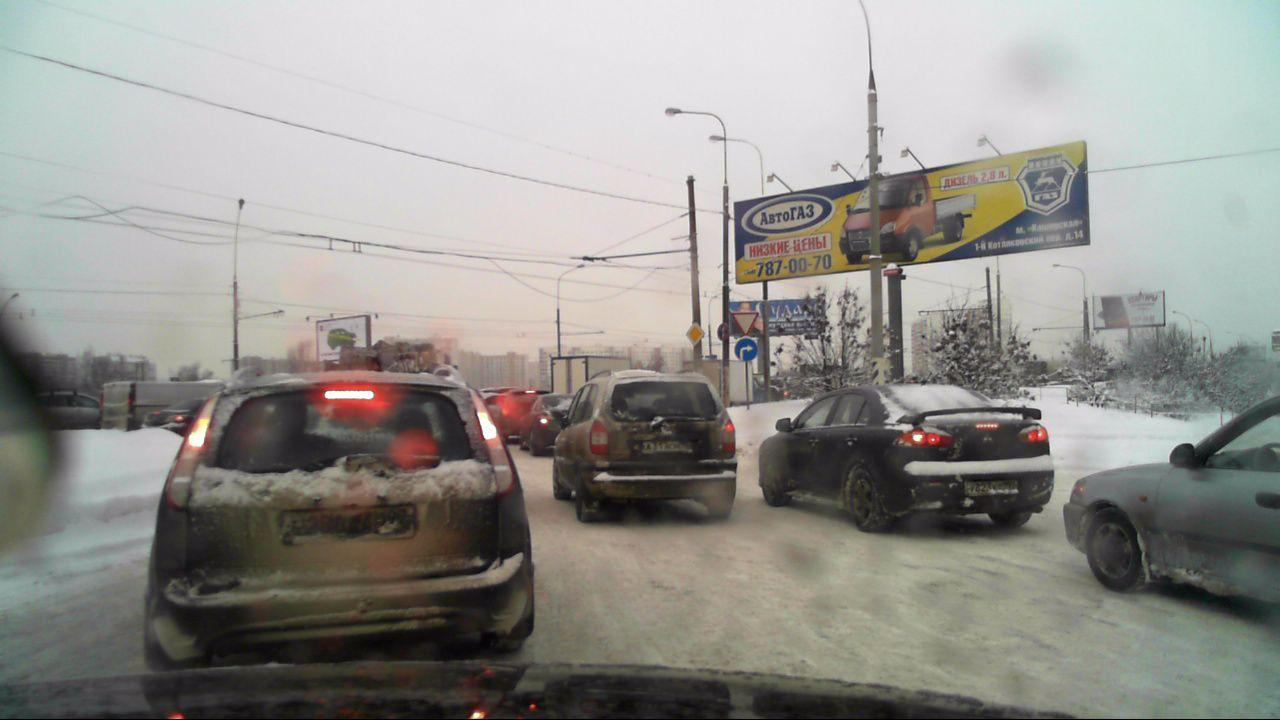2_1: (686, 322, 705, 345)
2_4: (731, 311, 759, 334)
3_29: (713, 321, 730, 341)
4_1_2: (734, 335, 757, 361)
